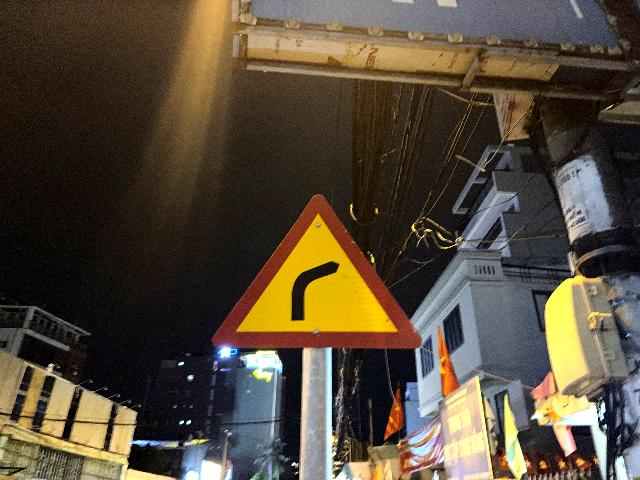cho-ngoat-nguy-hiem-ben-phai: (210, 193, 422, 350)
